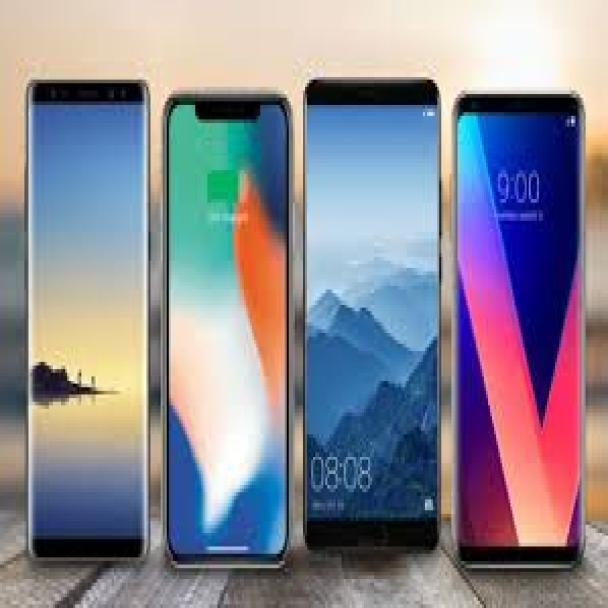Handphone: (306, 80, 442, 542), (454, 93, 586, 566), (26, 81, 153, 568), (163, 97, 288, 569)
